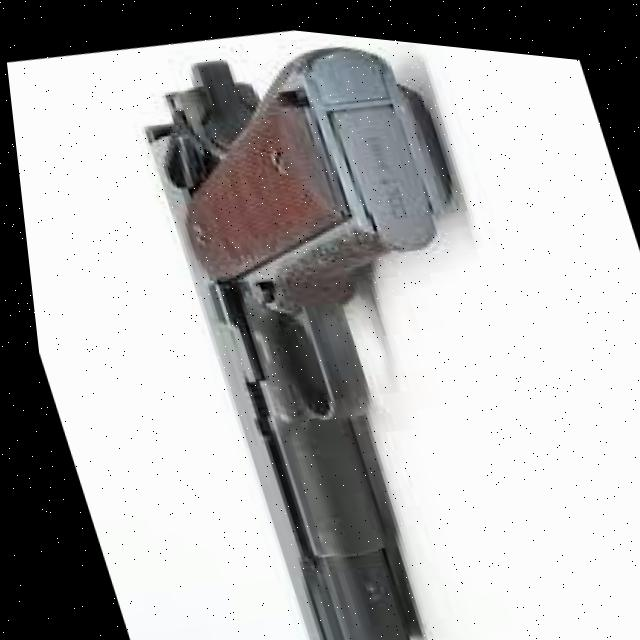gun: (144, 43, 454, 640)
